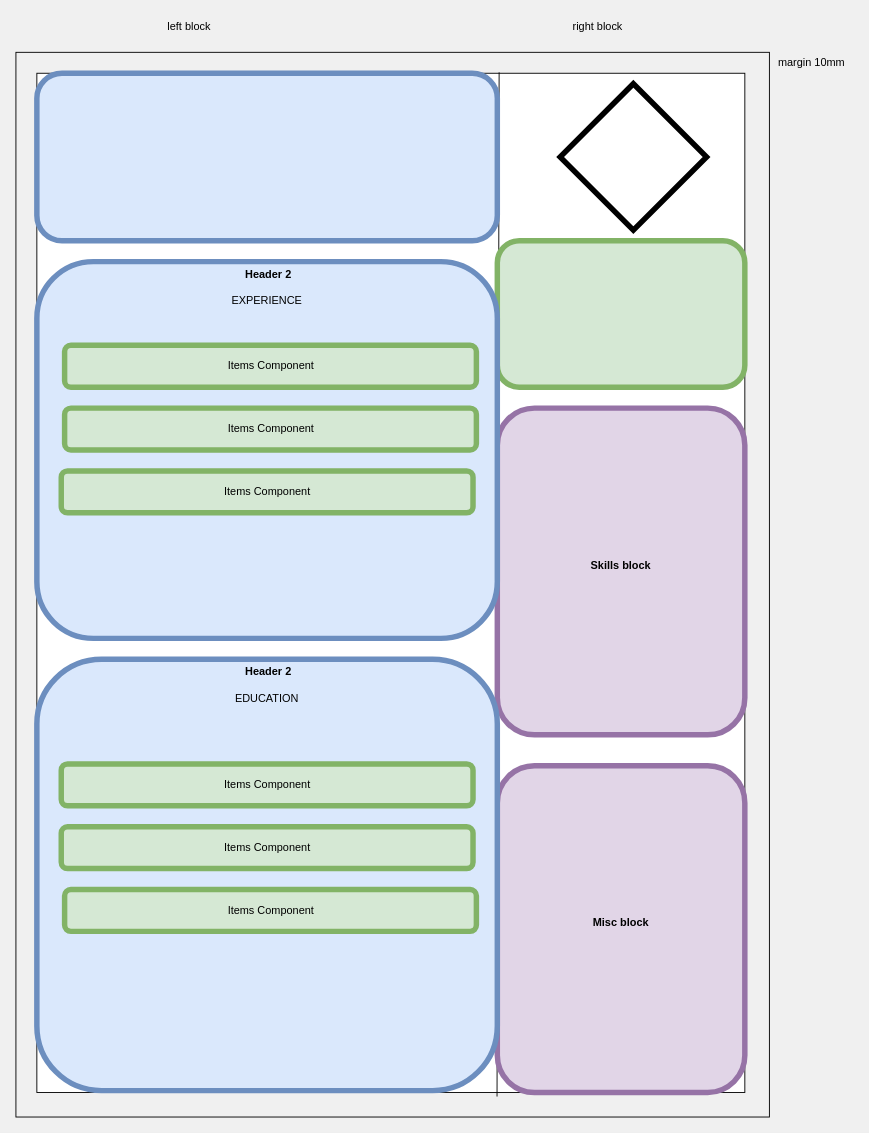
Some shapes in this 869 by 1133 pixel diagram are drawn without their labels. Each missing label, with the box of its shape:
Header Component Name Title Short presentation: (34, 70, 500, 243)
Info block: (494, 238, 747, 389)
Picture block: (557, 81, 709, 233)
